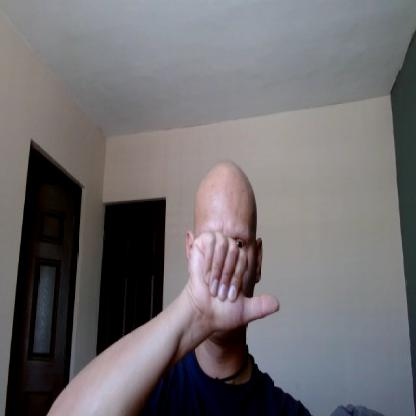A: (187, 231, 282, 334)
